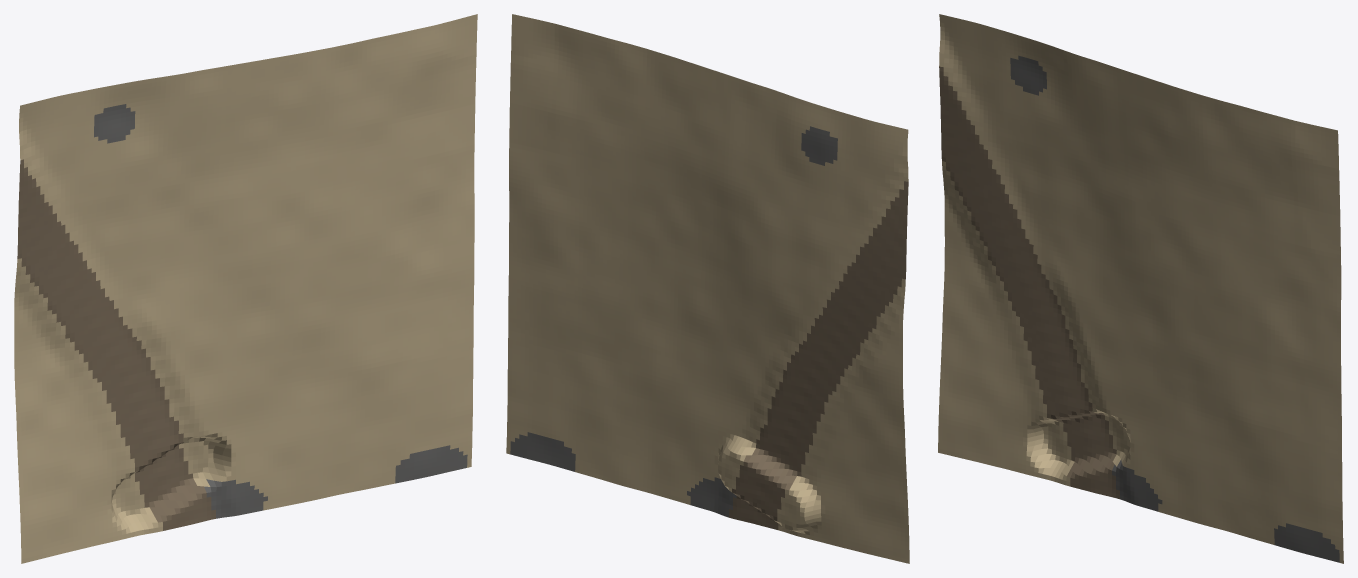
The model's file is SARM_SAR_Terrain_05_03.glb.
3 views of the same model, side by side, from view 1: azimuth 30°, elevation 25°; view 2: azimuth 150°, elevation 25°; view 3: azimuth 330°, elevation 25° (orthographic). The views are drawn at different scales.
Parts seen in each view (by area): view 1: SAR_Terrain_05_03.001; view 2: SAR_Terrain_05_03.001; view 3: SAR_Terrain_05_03.001.
Part boxes in pixels (<box>): SAR_Terrain_05_03.001: <box>14,14,477,563</box>; SAR_Terrain_05_03.001: <box>506,14,909,563</box>; SAR_Terrain_05_03.001: <box>938,14,1343,563</box>.
Size of the model in its own units: 50 by 50 by 6.05.
